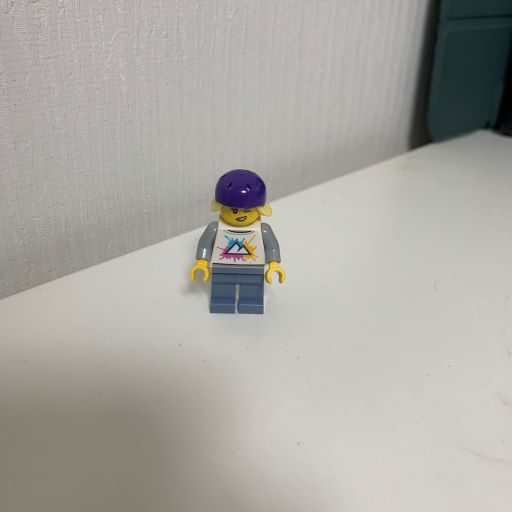human: (178, 160, 291, 324)
